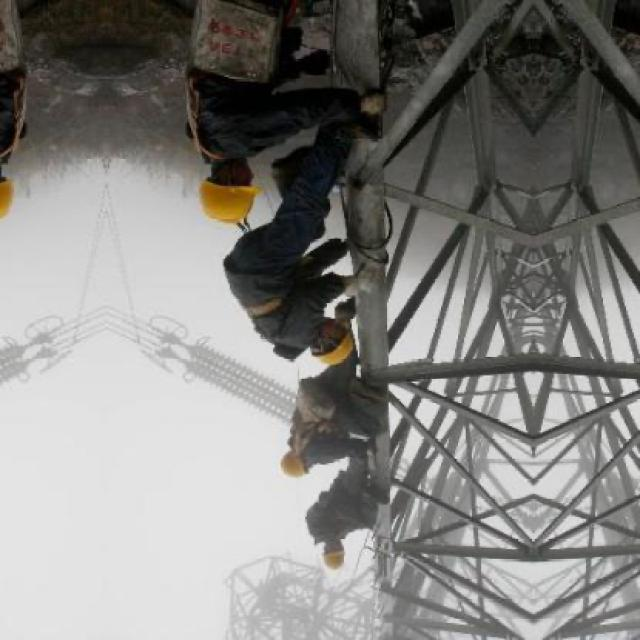con casco: (183, 117, 320, 239), (253, 436, 349, 501), (276, 318, 374, 362), (304, 526, 372, 580)
